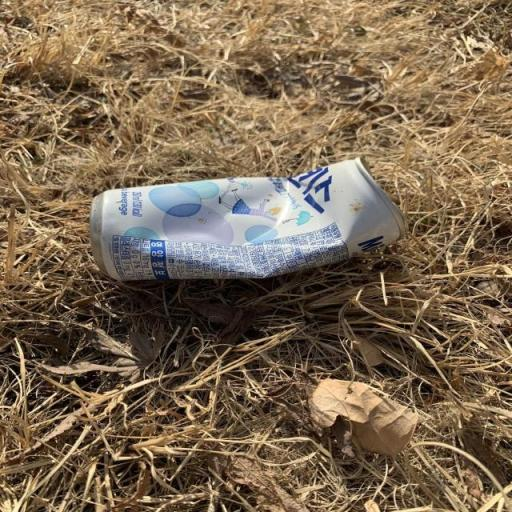metal: (74, 147, 424, 301)
